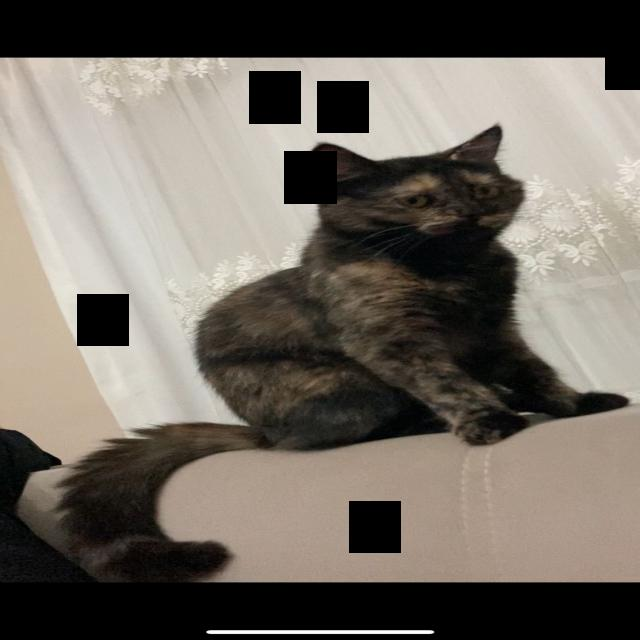authorized: (53, 121, 629, 582)
